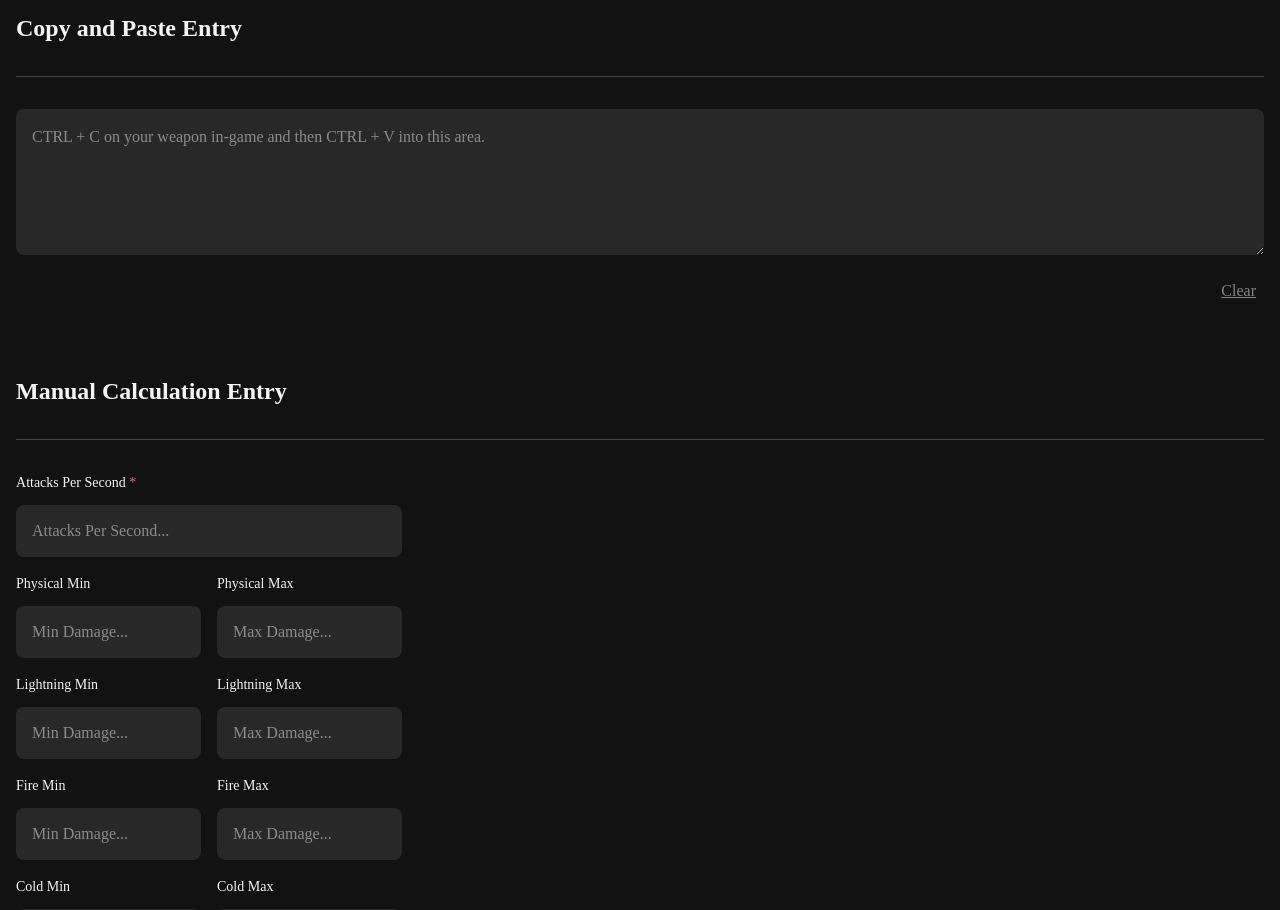
Test: <DpsCalc /> › copy and paste section › GIVEN an item is pasted WHEN the Clear button is clicked › THEN the form is cleared
Click the text box with placeholder "CTRL + C on your weapon in-game and then CTRL + V into this area." at (640, 182), box top-left (16, 109), bottom-right (1264, 255)
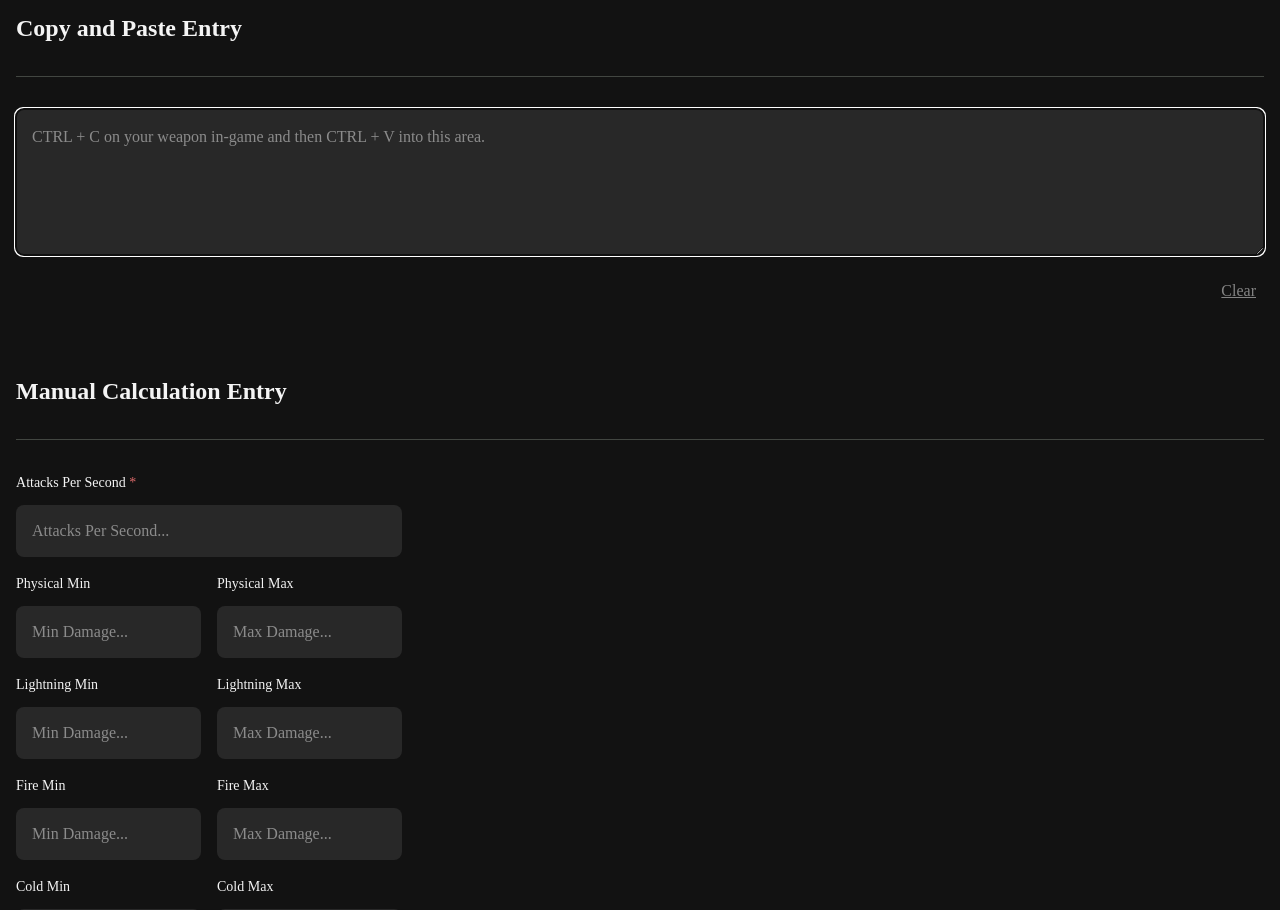
Type keys "Item Class: Quarterstaves         Rarity: Rare         Woe Goad         Expert Barrier Quarterstaff         --------         Physical Damage: 125-209 (augmented)         Elemental Damage: 3-7 (augment"
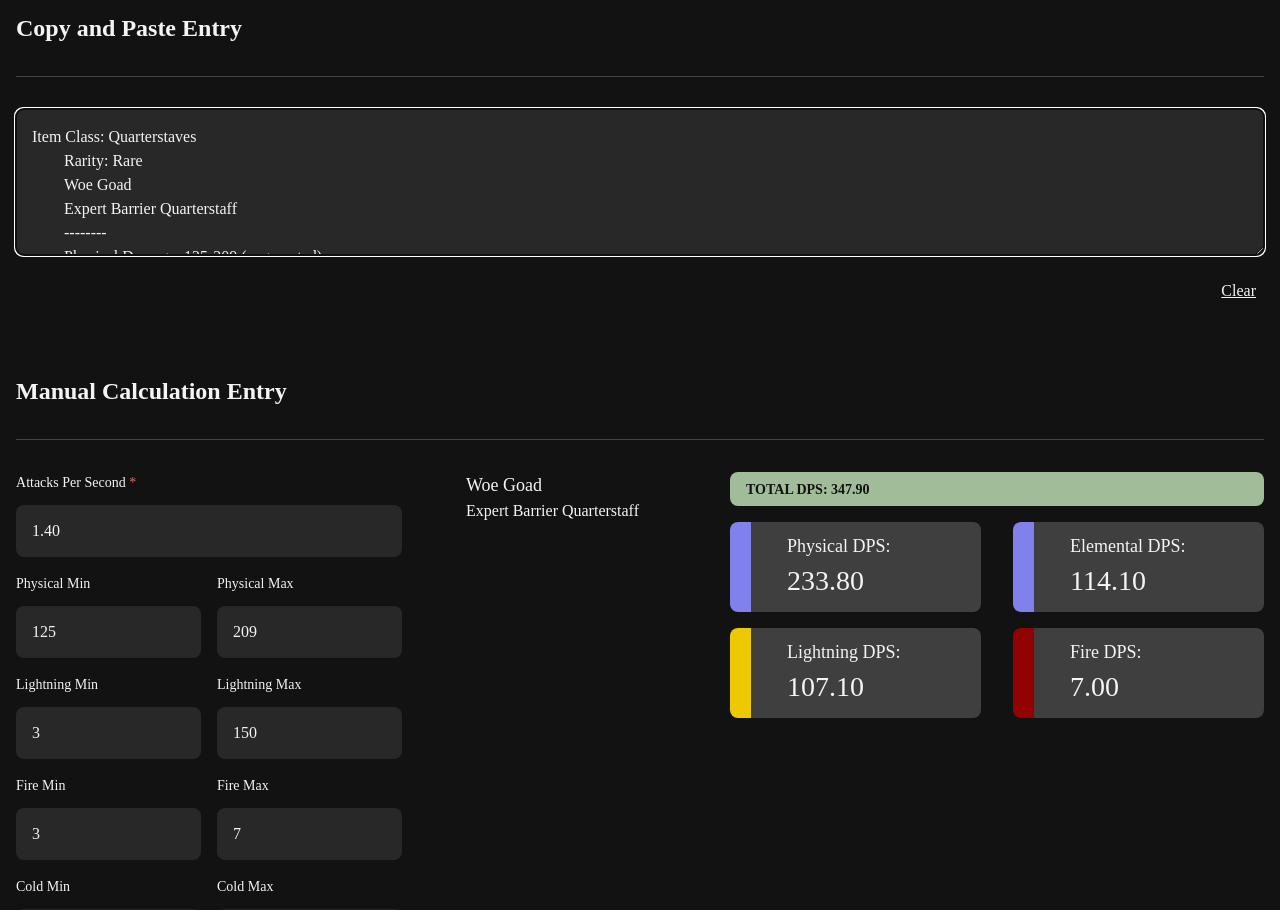
Check: the element with test id "calculationResults" is shown, box top-left (730, 472), bottom-right (1264, 718)
Click the button "Clear" at (1239, 291), box top-left (1213, 271), bottom-right (1264, 311)
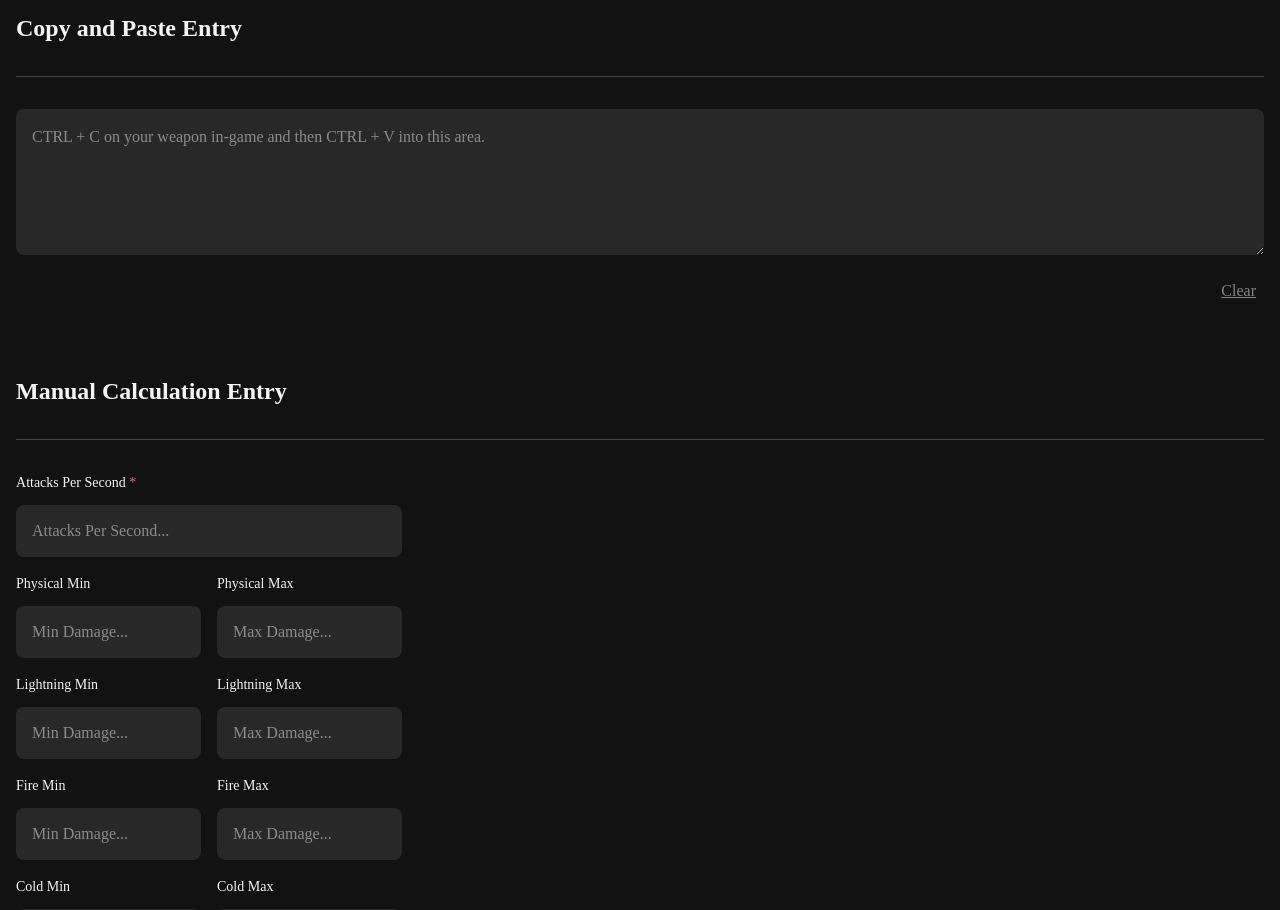
Check: the field labelled "Attacks Per Second *" is empty, box top-left (16, 505), bottom-right (402, 557)
Check: the field labelled "physical Min" is empty, box top-left (16, 606), bottom-right (201, 658)
Check: the field labelled "physical Max" is empty, box top-left (217, 606), bottom-right (402, 658)
